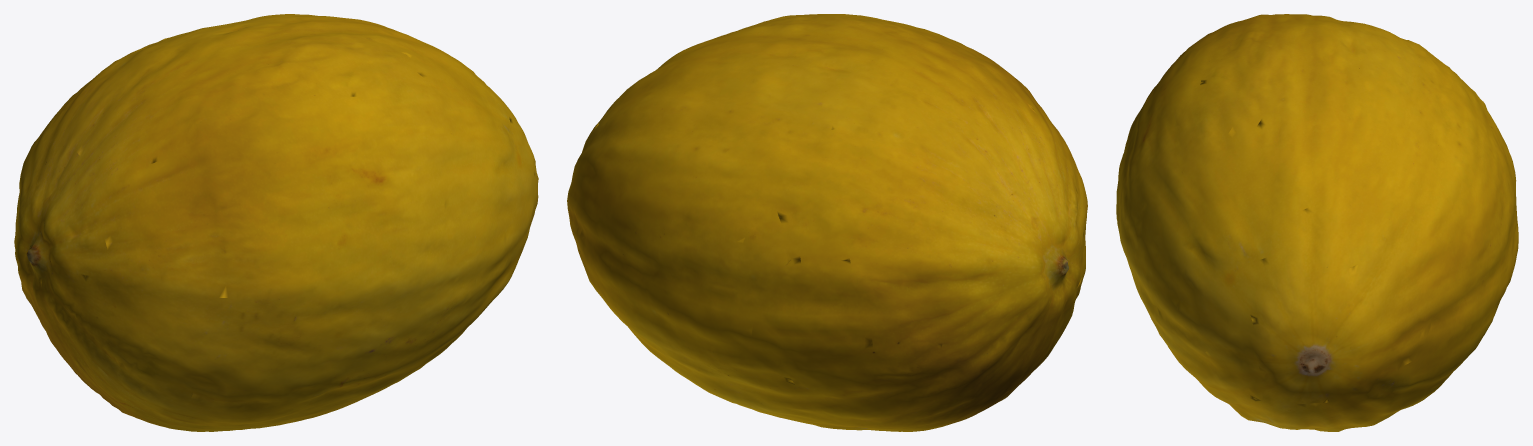
3 renders of one model, left to right at view 1: azimuth 30°, elevation 25°; view 2: azimuth 150°, elevation 25°; view 3: azimuth 270°, elevation 25°, orthographic. The views are drawn at different scales.
Visible parts, largest first — view 1: Hunajameloni_retopo; view 2: Hunajameloni_retopo; view 3: Hunajameloni_retopo.
Part boxes in pixels (<box>): Hunajameloni_retopo: <box>14,14,538,431</box>; Hunajameloni_retopo: <box>567,14,1087,431</box>; Hunajameloni_retopo: <box>1116,14,1518,431</box>.
Bounding box in the file's own units: 647 × 476 × 487.
Materials: 1 (1 with a texture image).
